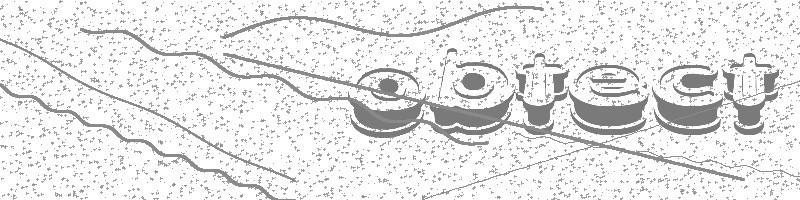b: (430, 47, 516, 137)
c: (652, 64, 724, 137)
e: (568, 64, 651, 137)
o: (349, 67, 429, 140)
t: (514, 51, 569, 138), (723, 52, 780, 135)
